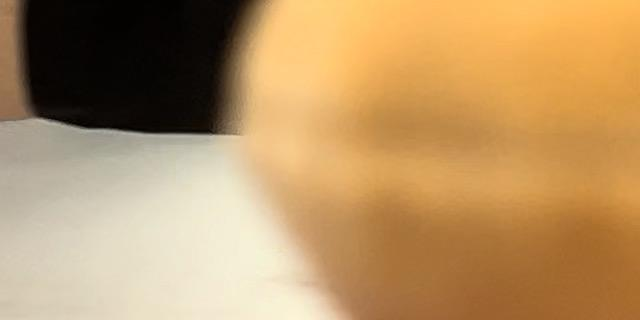burger: (194, 0, 640, 320)
